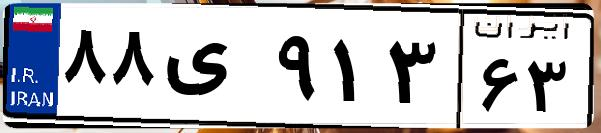1: (330, 28, 385, 110)
3: (385, 28, 445, 110), (525, 38, 570, 115)
6: (475, 38, 525, 113)
8: (57, 26, 110, 100), (110, 28, 158, 98)
9: (270, 28, 330, 110)
ی: (158, 20, 270, 120)
